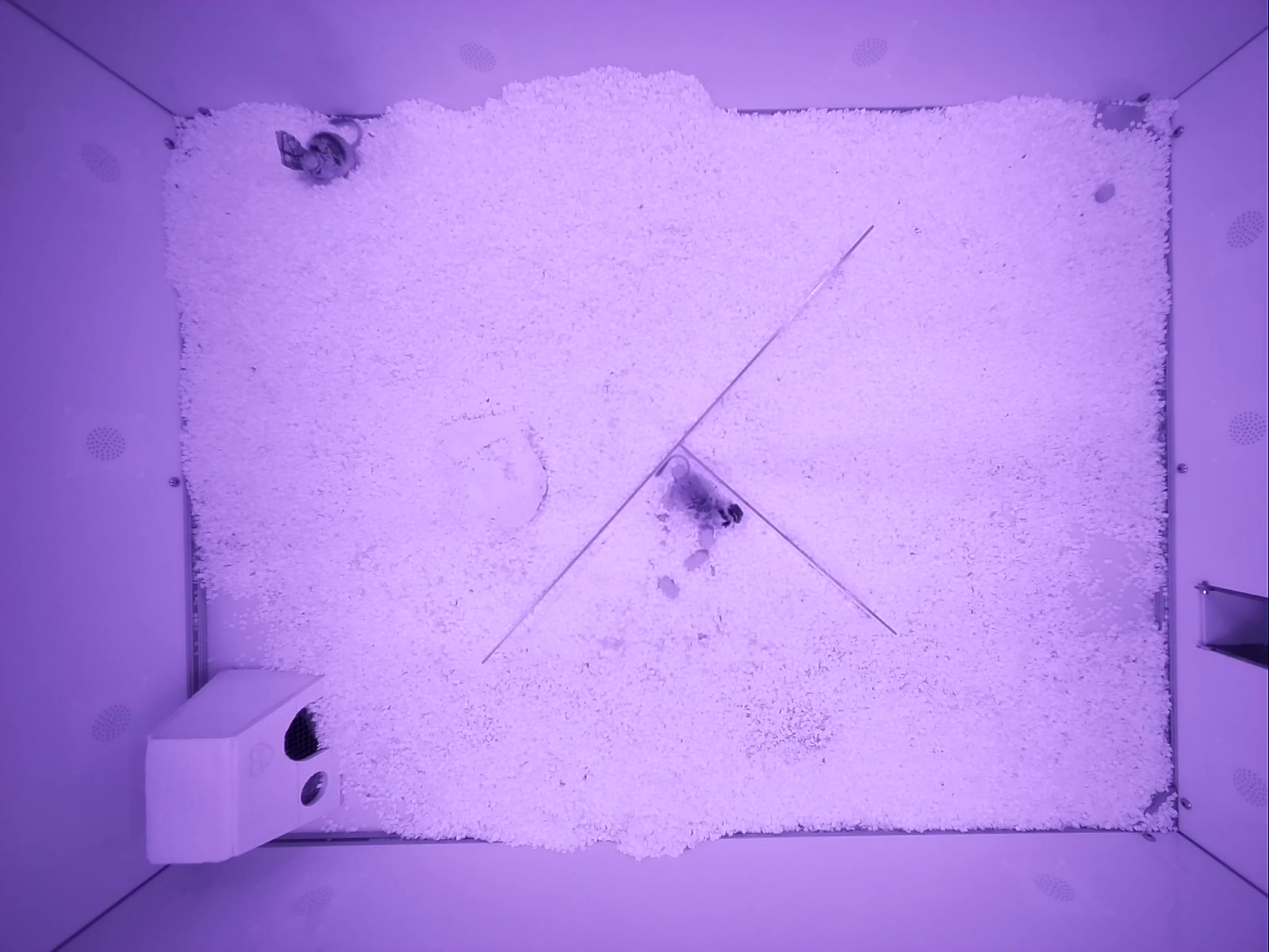adult_back: (656, 453, 743, 529), (276, 117, 362, 183)
